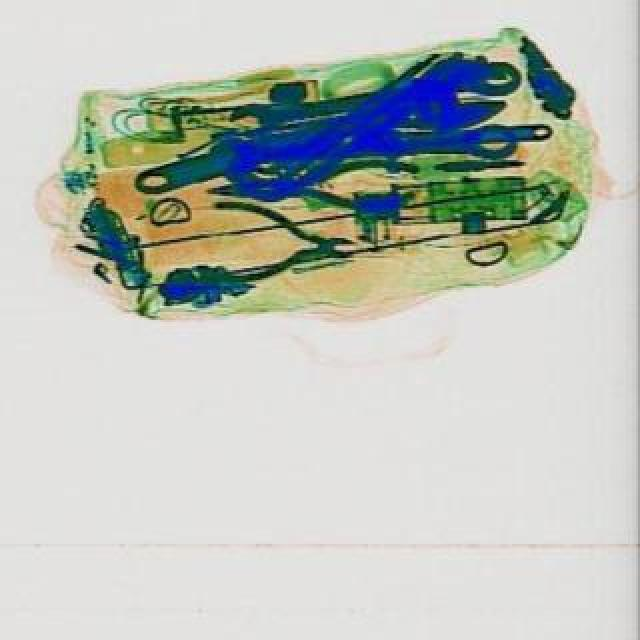scissors: (228, 86, 382, 146)
wrench: (210, 160, 426, 224), (212, 204, 360, 288)
